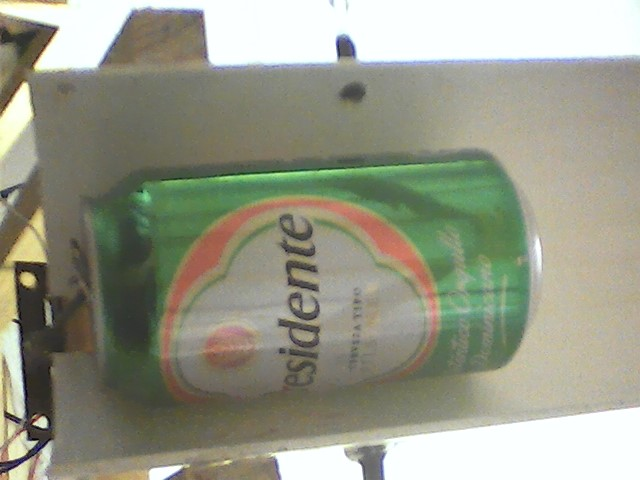lata: (67, 145, 551, 408)
